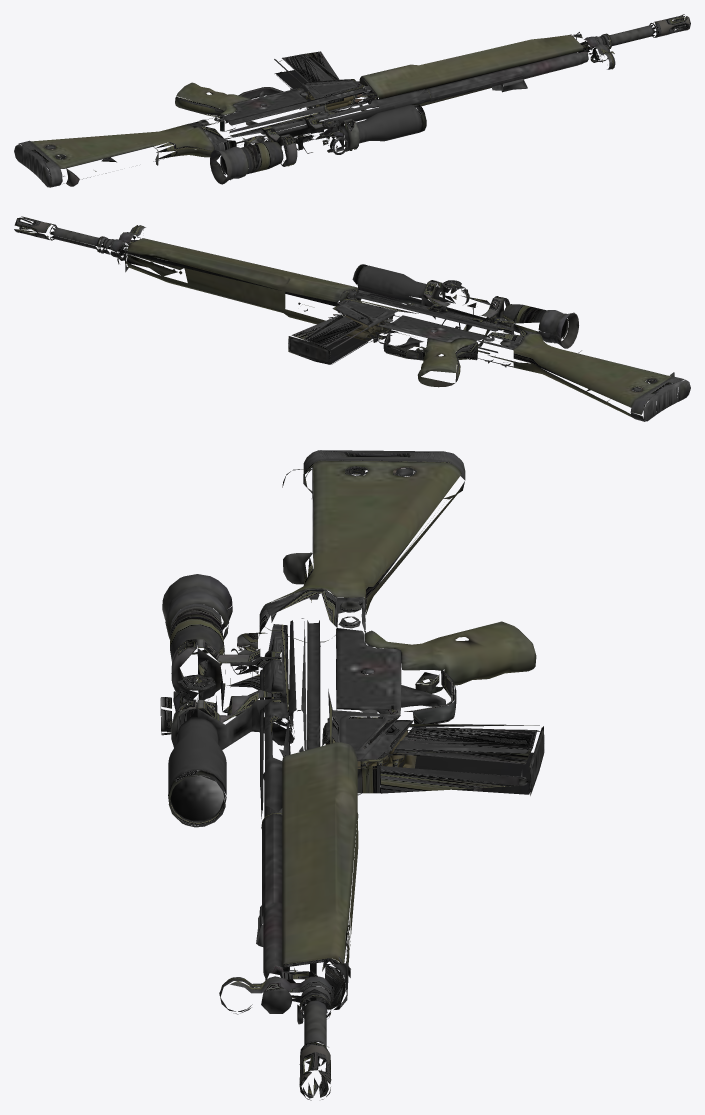
3 renders of one model, top to bottom at view 1: azimuth 30°, elevation 25°; view 2: azimuth 150°, elevation 25°; view 3: azimuth 270°, elevation 25°, orthographic. The views are drawn at different scales.
Visible parts, largest first — view 1: w_g3sg1; view 2: w_g3sg1; view 3: w_g3sg1.
Boxes of the visible parts, left/top/right/bottom form: w_g3sg1: left=14, top=14, right=690, bottom=187; w_g3sg1: left=14, top=216, right=690, bottom=421; w_g3sg1: left=160, top=450, right=544, bottom=1100.
Size of the model in its own units: 1.43 by 0.0804 by 0.3707.
2 materials, 2 textured.
